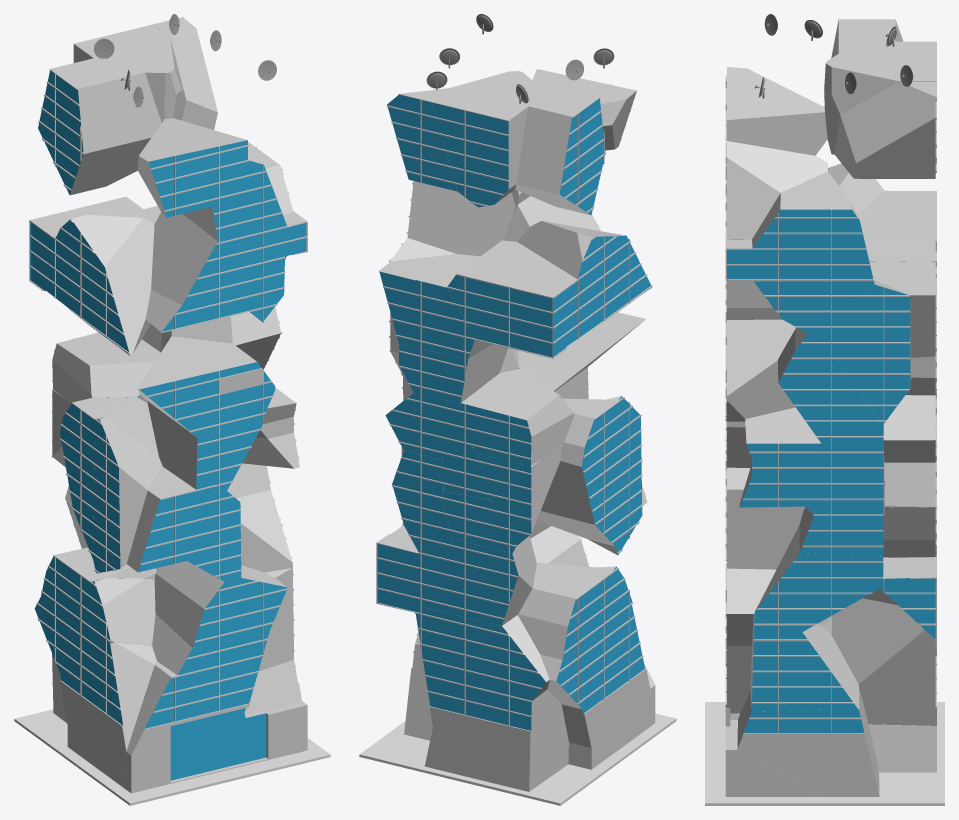
The model's file is casa_1_cracked.glb.
3 renders of one model, left to right at view 1: azimuth 30°, elevation 25°; view 2: azimuth 150°, elevation 25°; view 3: azimuth 270°, elevation 25°, orthographic. The views are drawn at different scales.
Parts seen in each view (by area): view 1: Edificio_2_cell.079, Edificio_2_cell.041, Edificio_2_cell.014, Edificio_2_cell.020, Edificio_2_cell.046, Edificio_2_cell.094, Edificio_2_cell.045, Edificio_2_cell.072, Edificio_2_cell.078, Edificio_2_cell.049, Edificio_2_cell.030, Edificio_2_cell.083 (+27 smaller); view 2: Edificio_2_cell.047, Edificio_2_cell.099, Edificio_2_cell.042, Edificio_2_cell.079, Edificio_2_cell.030, Edificio_2_cell.006, Edificio_2_cell.041, Edificio_2_cell.083, Edificio_2_cell.040, Edificio_2_cell.058, Edificio_2_cell.096, Edificio_2_cell.021 (+22 smaller); view 3: Edificio_2_cell.021, Edificio_2_cell.092, Edificio_2_cell.096, Edificio_2_cell.016, Edificio_2_cell.077, Edificio_2_cell.059, Edificio_2_cell.004, Edificio_2_cell.031, Edificio_2_cell.094, Base.001, Edificio_2_cell.071, Edificio_2_cell.020 (+23 smaller).
Boxes of the visible parts, left/top/right/bottom form: Edificio_2_cell.079: left=38, top=58, right=161, bottom=195; Edificio_2_cell.041: left=45, top=215, right=154, bottom=355; Edificio_2_cell.014: left=120, top=661, right=245, bottom=793; Edificio_2_cell.020: left=137, top=336, right=275, bottom=437; Edificio_2_cell.046: left=154, top=561, right=287, bottom=647; Edificio_2_cell.094: left=137, top=118, right=248, bottom=217; Edificio_2_cell.045: left=67, top=642, right=156, bottom=784; Edificio_2_cell.072: left=60, top=578, right=155, bottom=724; Edificio_2_cell.078: left=92, top=416, right=162, bottom=573; Edificio_2_cell.049: left=151, top=212, right=241, bottom=305; Edificio_2_cell.030: left=60, top=397, right=158, bottom=559; Edificio_2_cell.083: left=52, top=332, right=160, bottom=403; Edificio_2_cell.047: left=424, top=688, right=568, bottom=791; Edificio_2_cell.099: left=446, top=240, right=577, bottom=358; Edificio_2_cell.042: left=430, top=71, right=531, bottom=207; Edificio_2_cell.079: left=515, top=80, right=606, bottom=215; Edificio_2_cell.030: left=537, top=398, right=617, bottom=546; Edificio_2_cell.006: left=420, top=536, right=536, bottom=625; Edificio_2_cell.041: left=518, top=221, right=652, bottom=345; Edificio_2_cell.083: left=460, top=369, right=574, bottom=466; Edificio_2_cell.040: left=378, top=254, right=492, bottom=358; Edificio_2_cell.058: left=518, top=563, right=613, bottom=659; Edificio_2_cell.096: left=415, top=607, right=501, bottom=727; Edificio_2_cell.021: left=406, top=181, right=515, bottom=255; Edificio_2_cell.021: left=752, top=172, right=874, bottom=333; Edificio_2_cell.092: left=737, top=689, right=879, bottom=796; Edificio_2_cell.096: left=832, top=598, right=936, bottom=725; Edificio_2_cell.016: left=834, top=81, right=936, bottom=178; Edificio_2_cell.077: left=750, top=613, right=859, bottom=711; Edificio_2_cell.059: left=816, top=280, right=910, bottom=424; Edificio_2_cell.004: left=777, top=328, right=883, bottom=444; Edificio_2_cell.031: left=754, top=525, right=883, bottom=631; Edificio_2_cell.094: left=725, top=67, right=827, bottom=155; Base.001: left=705, top=702, right=944, bottom=805; Edificio_2_cell.071: left=725, top=141, right=828, bottom=239; Edificio_2_cell.020: left=725, top=319, right=795, bottom=421.
Bounding box in the file's own units: 6.84 × 22.35 × 6.84.
